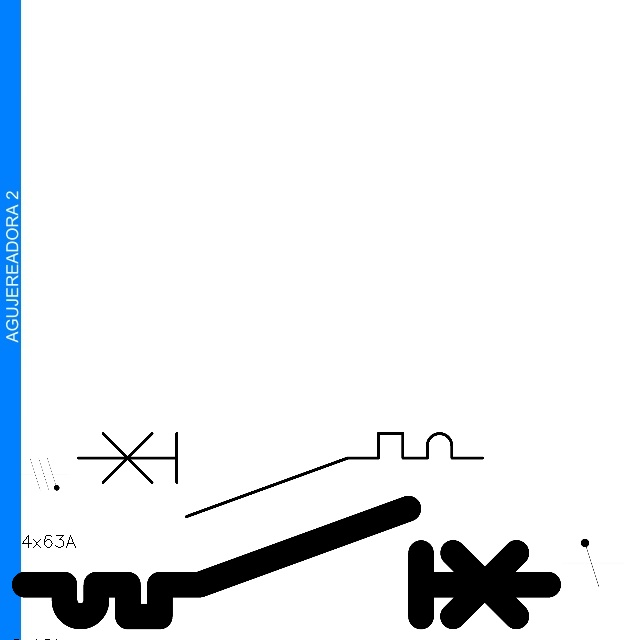interruptor_termomagnetico: (11, 495, 561, 630), (68, 423, 493, 527)
